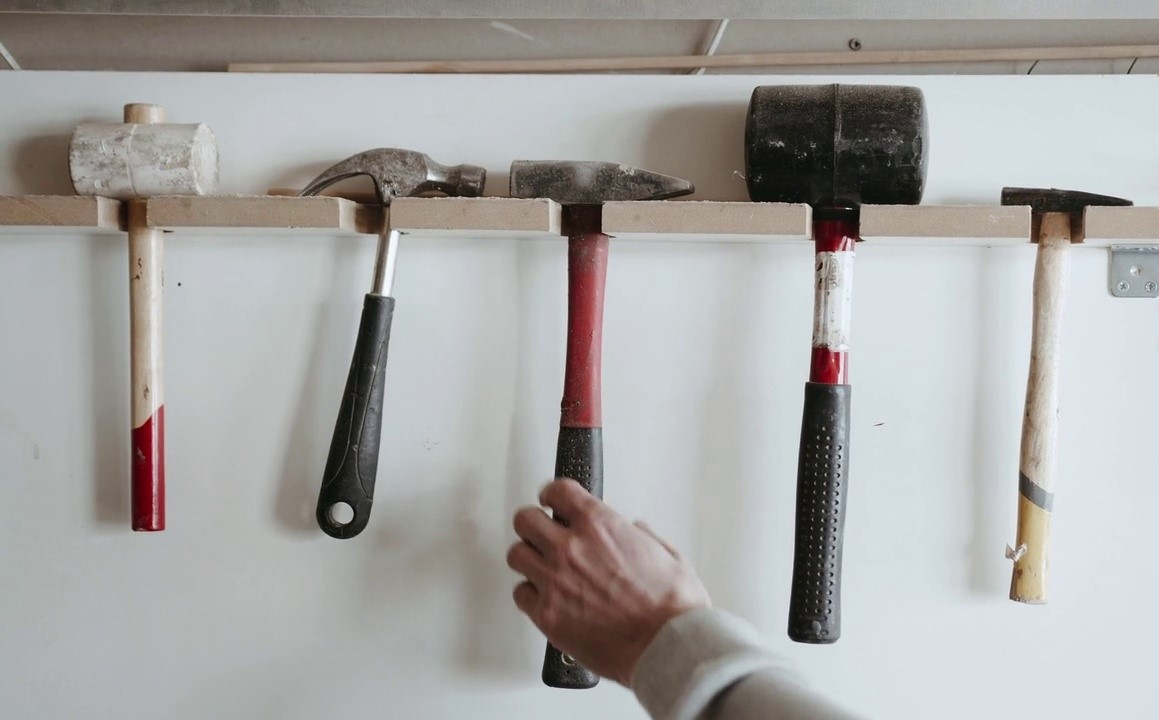hammer: (741, 81, 934, 647), (505, 157, 698, 695), (297, 142, 491, 542), (64, 97, 223, 537), (997, 184, 1137, 609)
